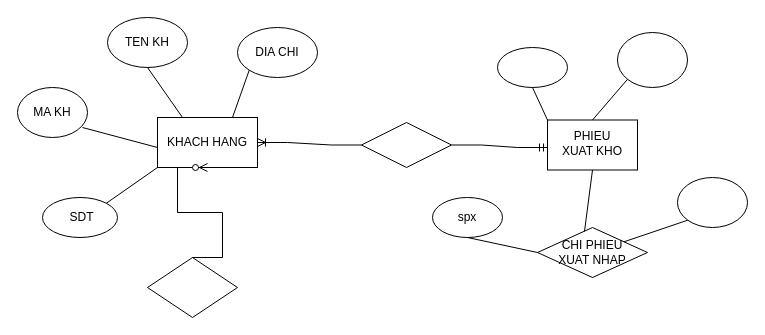
Some shapes in this 765 by 335 pixel diagram are drawn without their labels. The shapes that lost their labels are listed below. From the top down, each one's centre as x and y in pixels, then its label:
At point (532, 67): "MA PX".
At point (652, 60): "NGAY XUAT".
At point (712, 202): "SLX".
At point (192, 287): "CHI TIET DON HANG".
